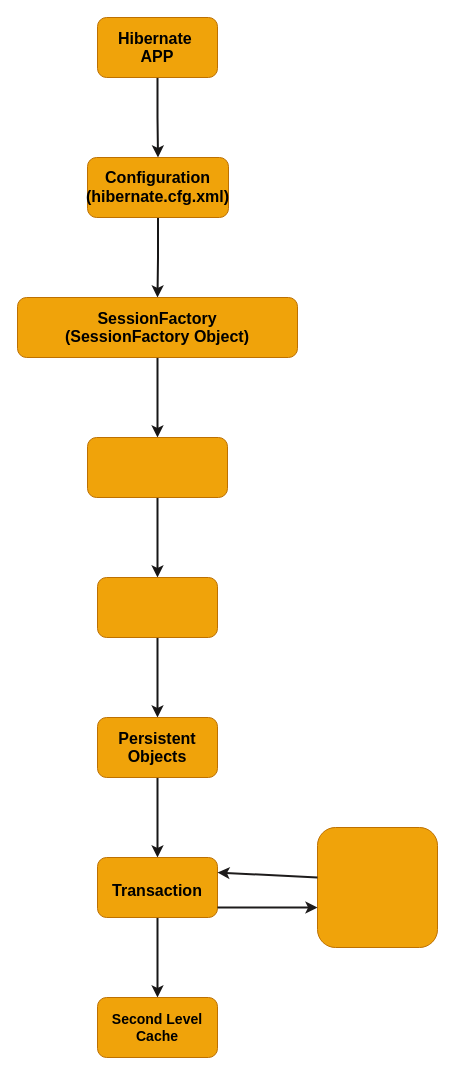
This 455x1075 diagram has some shape labels left out. The shapes that lost their labels are listed below. From the top down, each one's centre as x and y in pixels, then its label:
the point at 157,467: Session (Session Object)
the point at 157,607: First Level Cache
the point at 377,887: DataBase
